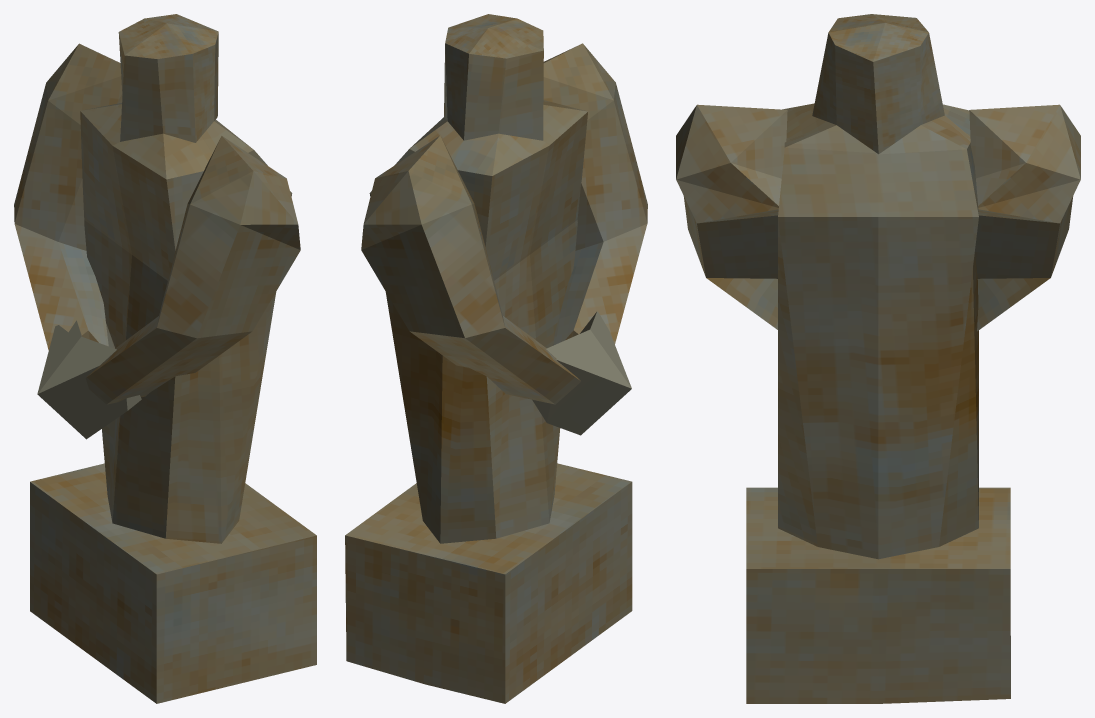
Rendered from cavaleiro_maos_tras.fbx.
3 renders of one model, left to right at view 1: azimuth 30°, elevation 25°; view 2: azimuth 150°, elevation 25°; view 3: azimuth 270°, elevation 25°, orthographic. The views are drawn at different scales.
Visible parts, largest first — view 1: Cube.002, Esfera icosaédrica.002, Cubo.005; view 2: Cube.002, Esfera icosaédrica.002, Cubo.005; view 3: Cube.002, Esfera icosaédrica.002.
Part boxes in pixels (bbox=[...]): Cube.002: bbox=[30, 14, 316, 703]; Esfera icosaédrica.002: bbox=[14, 43, 300, 404]; Cubo.005: bbox=[37, 320, 141, 439]; Cube.002: bbox=[345, 14, 632, 703]; Esfera icosaédrica.002: bbox=[361, 43, 647, 404]; Cubo.005: bbox=[532, 311, 631, 435]; Cube.002: bbox=[746, 14, 1010, 703]; Esfera icosaédrica.002: bbox=[676, 104, 1080, 331].
Size of the model in its own units: 274 by 731 by 420.
